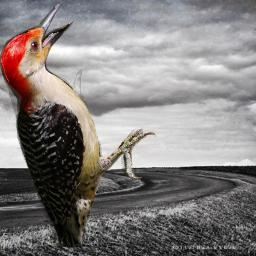Woodpecker: (0, 4, 160, 247)
